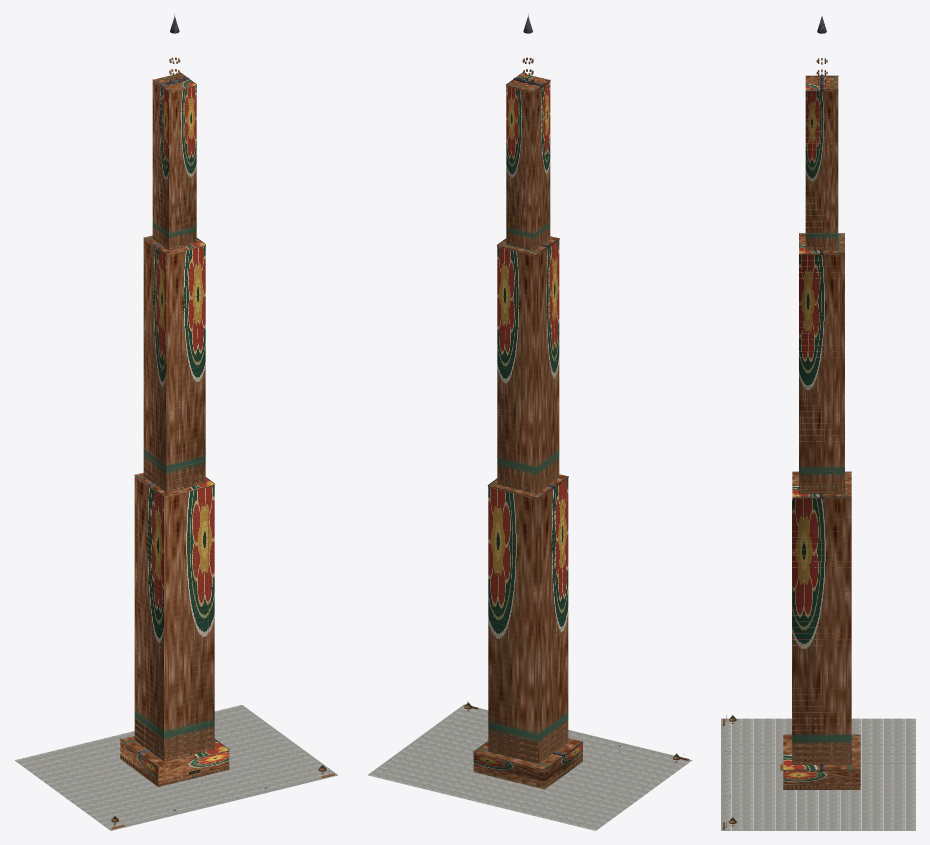
The picture shows the model from 3 angles, left to right: view 1: azimuth 30°, elevation 25°; view 2: azimuth 150°, elevation 25°; view 3: azimuth 270°, elevation 25°; orthographic projection.
Visible parts, largest first — view 1: 11710_01_05551_000_02__mass_body_facade, 11710_01_05551_000_01__plinth_ground_base; view 2: 11710_01_05551_000_02__mass_body_facade, 11710_01_05551_000_01__plinth_ground_base; view 3: 11710_01_05551_000_02__mass_body_facade, 11710_01_05551_000_01__plinth_ground_base, 11710_01_05551_000_03__roof_metal_ornament.
Boxes of the visible parts, x1,y1,x2,y2 form: 11710_01_05551_000_02__mass_body_facade: [120, 73, 229, 786]; 11710_01_05551_000_01__plinth_ground_base: [15, 705, 338, 830]; 11710_01_05551_000_02__mass_body_facade: [473, 73, 582, 789]; 11710_01_05551_000_01__plinth_ground_base: [367, 704, 692, 830]; 11710_01_05551_000_02__mass_body_facade: [780, 76, 860, 789]; 11710_01_05551_000_01__plinth_ground_base: [721, 718, 915, 830]; 11710_01_05551_000_03__roof_metal_ornament: [783, 16, 860, 771].
Bounding box in the file's own units: 180 × 568 × 132.
7 materials, 7 textured.
